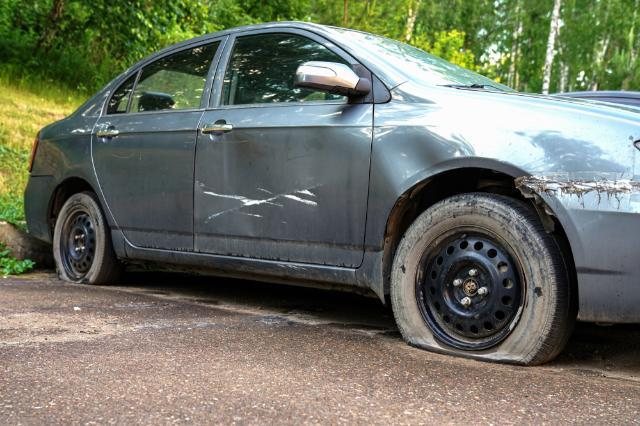dent: (386, 130, 446, 191)
scratch: (200, 181, 324, 221)
tire flat: (390, 193, 574, 367), (53, 188, 114, 287)
